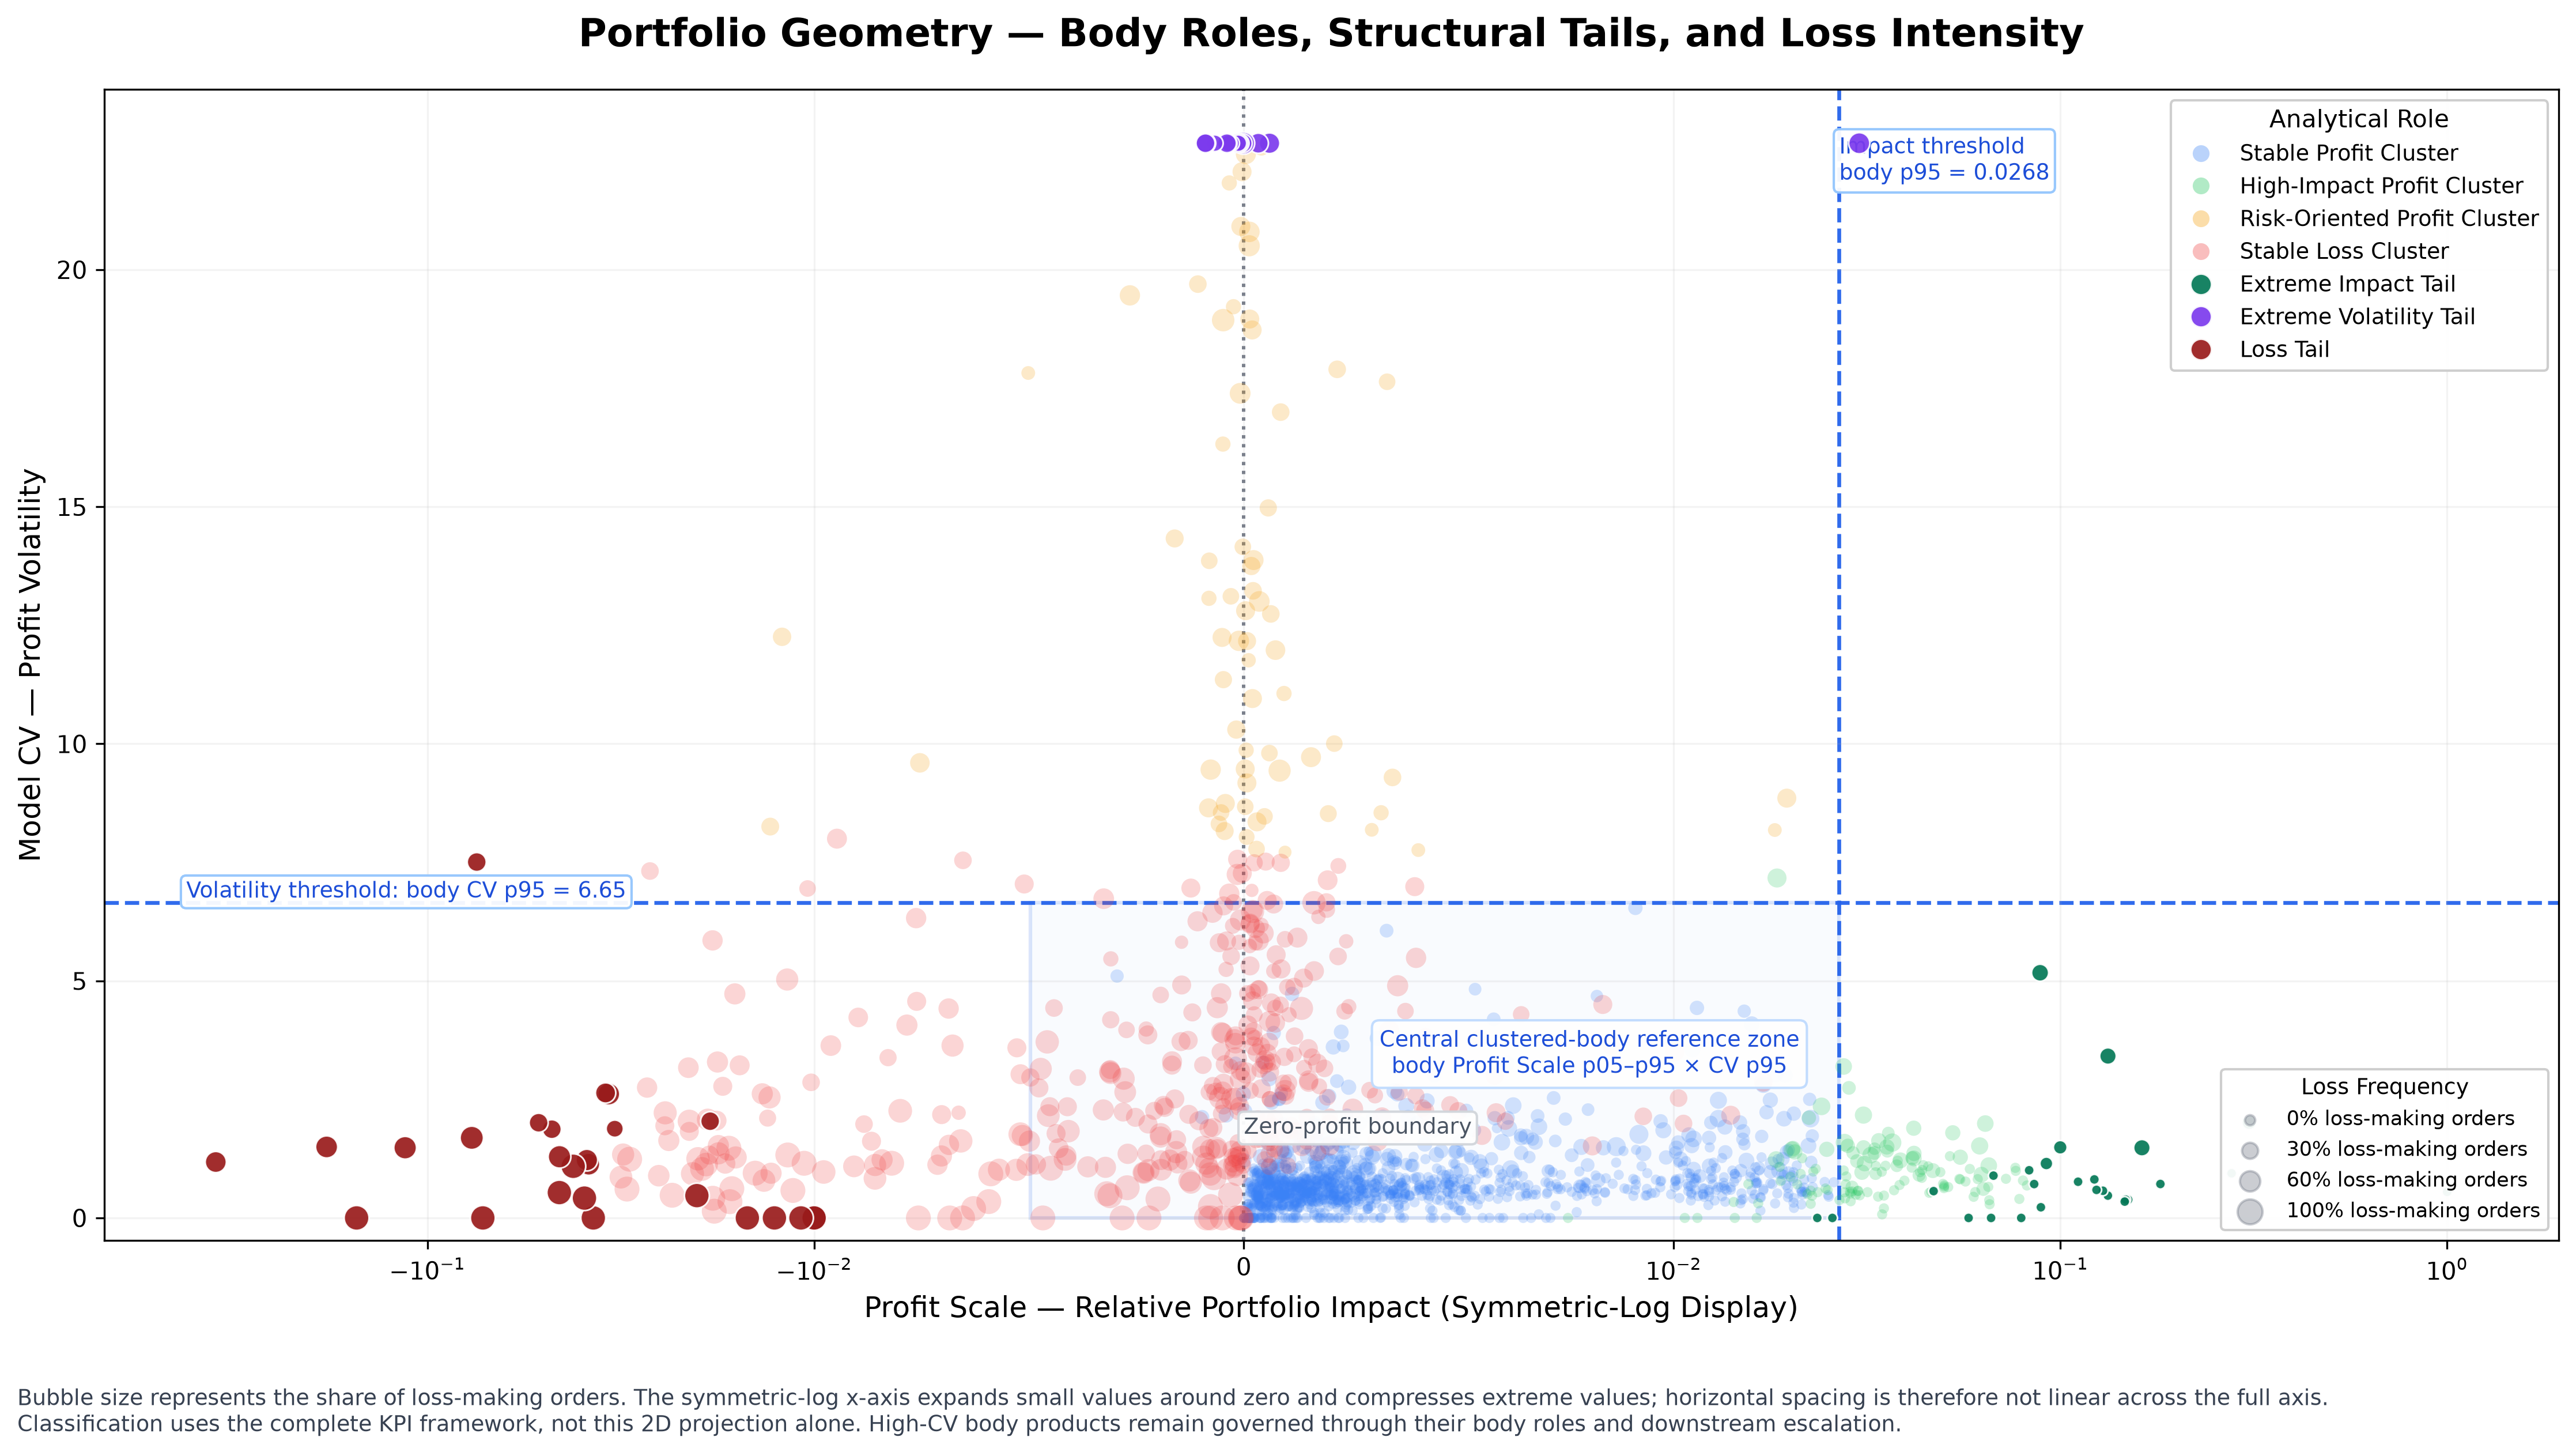

What the dashboard file says about the page in this screenshot:
{"tool":"powerbi","page":{"name":"02 Portfolio Diagnostic","canvas":[1280,720],"ordinal":1},"visuals":[{"type":"shape","box":[0,0,82,720],"z":1000},{"type":"textbox","box":[12,18,60,62],"z":2000},{"type":"textbox","box":[15,140,57,20],"z":3000},{"type":"shape","box":[6,194,70,38],"z":4000},{"type":"shape","box":[6,194,3,38],"z":5000},{"type":"textbox","box":[15,202,57,20],"z":6000},{"type":"textbox","box":[15,264,57,20],"z":7000},{"type":"textbox","box":[15,326,57,20],"z":8000},{"type":"textbox","box":[12,655,60,42],"z":9000},{"type":"textbox","box":[104,6,560,16],"z":10000},{"type":"textbox","box":[104,22,575,31],"z":11000},{"type":"textbox","box":[104,53,575,22],"z":12000},{"type":"slicer","fields":{"Values":["Products.Analytical Role"]},"box":[704,12,135,66],"z":13000},{"type":"slicer","fields":{"Values":["Products.Governance State"]},"box":[846,12,135,66],"z":14000},{"type":"slicer","fields":{"Values":["Products.Concentration Level"]},"box":[988,12,135,66],"z":15000},{"type":"slicer","fields":{"Values":["Products.Deterioration Level"]},"box":[1130,12,135,66],"z":16000},{"type":"shape","box":[104,88,1160,3],"z":17000},{"type":"shape","box":[104,100,1160,38],"z":18000},{"type":"cardVisual","fields":{"Data":["Products.Scope Snapshot"]},"box":[118,104,1132,30],"z":19000},{"type":"barChart","title":"Structural portfolio profile","fields":{"Category":["Products.Analytical Role"],"Y":["Products.Product Count"]},"box":[104,150,568,244],"z":20000},{"type":"pivotTable","title":"Role × governance pressure","fields":{"Rows":["Products.Analytical Role"],"Columns":["Products.Governance State"],"Values":["Products.Product Count"]},"box":[684,150,580,244],"z":21000},{"type":"barChart","title":"Escalation triggers","fields":{"Category":["Products.Primary Signal"],"Y":["Products.Product Count"]},"box":[104,406,568,250],"z":22000},{"type":"barChart","title":"Resolved management routes","fields":{"Category":["Products.Final Intervention"],"Y":["Products.Product Count"]},"box":[684,406,580,250],"z":23000},{"type":"textbox","box":[104,666,1160,32],"z":24000}]}

Visuals, with their boxes in screenshot pixels (x1, y1, x2, y2), scaled from the page's 1280x720 canvas onto the 2576x1456 screenshot:
shape: 0 0 165 1455
textbox: 24 36 145 162
textbox: 30 283 145 323
shape: 12 393 153 469
shape: 12 393 18 469
textbox: 30 409 145 449
textbox: 30 534 145 574
textbox: 30 659 145 700
textbox: 24 1325 145 1409
textbox: 209 12 1336 44
textbox: 209 44 1366 107
textbox: 209 107 1366 152
slicer - Products.Analytical Role: 1417 24 1689 158
slicer - Products.Governance State: 1702 24 1974 158
slicer - Products.Concentration Level: 1988 24 2260 158
slicer - Products.Deterioration Level: 2274 24 2546 158
shape: 209 178 2544 184
shape: 209 202 2544 279
cardVisual - Products.Scope Snapshot: 237 210 2515 271
"Structural portfolio profile" barChart: 209 303 1353 797
"Role × governance pressure" pivotTable: 1377 303 2544 797
"Escalation triggers" barChart: 209 821 1353 1326
"Resolved management routes" barChart: 1377 821 2544 1326
textbox: 209 1347 2544 1412
